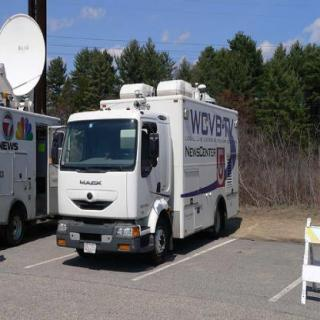Normal_vehicle: (52, 75, 243, 269)
